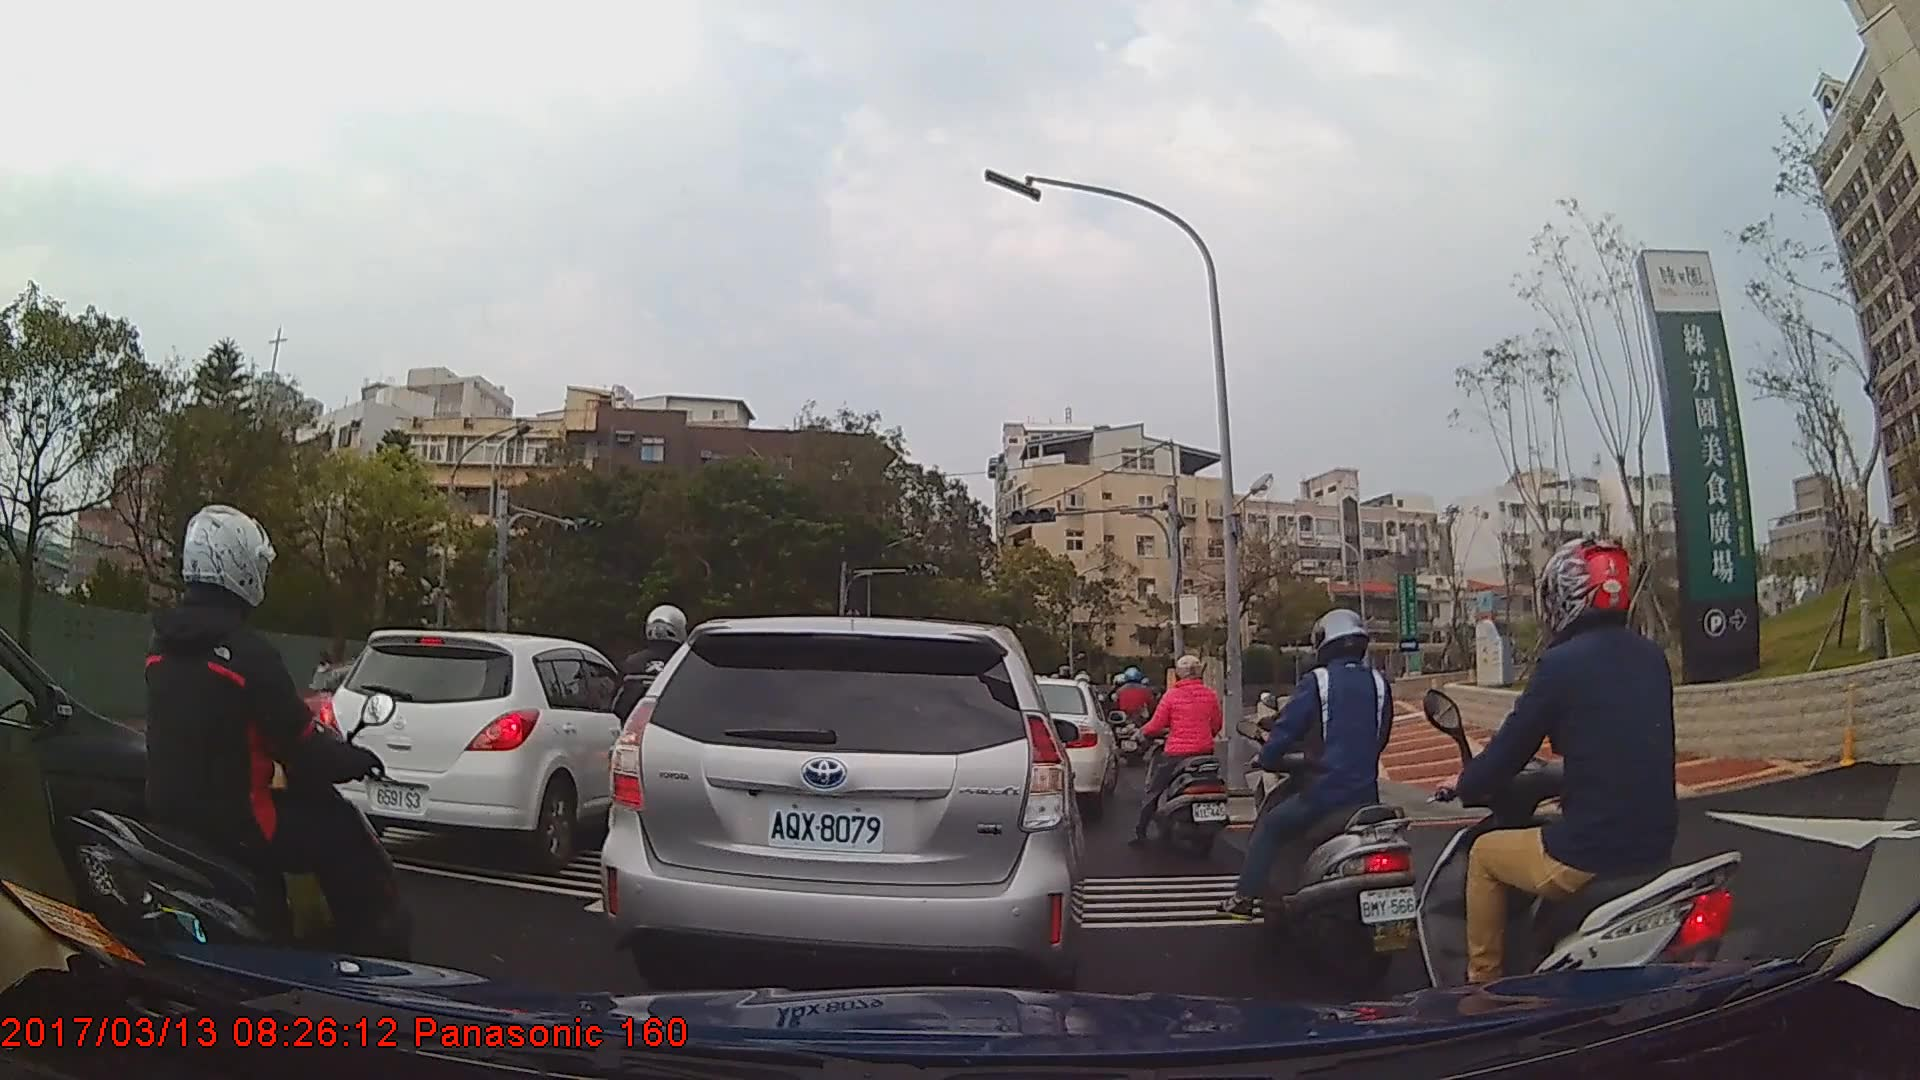pedestrian: (311, 652, 339, 728)
rider: (64, 500, 410, 1037), (1419, 530, 1747, 1060), (1242, 614, 1418, 999), (1134, 655, 1233, 862), (1109, 666, 1153, 766)
vehicle: (602, 613, 1085, 1034), (314, 629, 647, 873), (1010, 677, 1117, 811)
